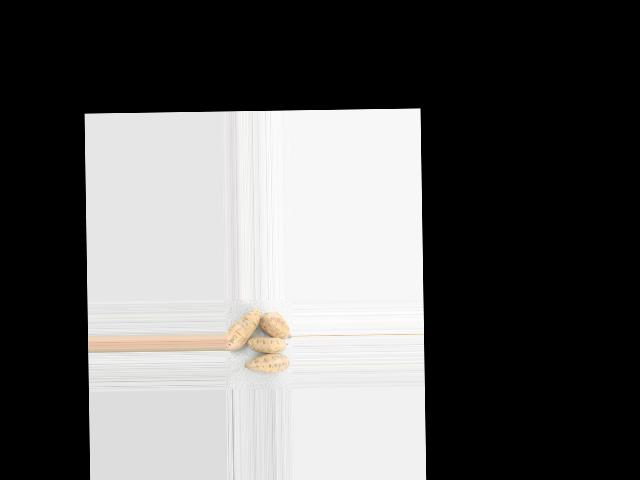sweet_potato: (224, 304, 260, 355)
